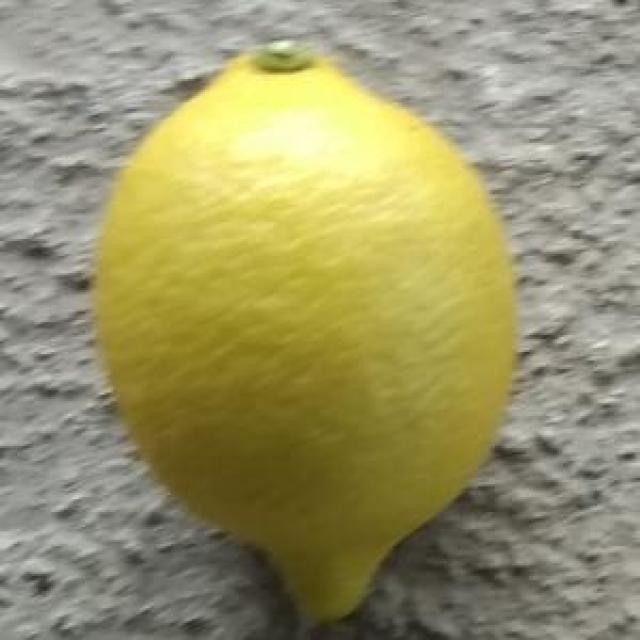lemon: (93, 36, 532, 636)
